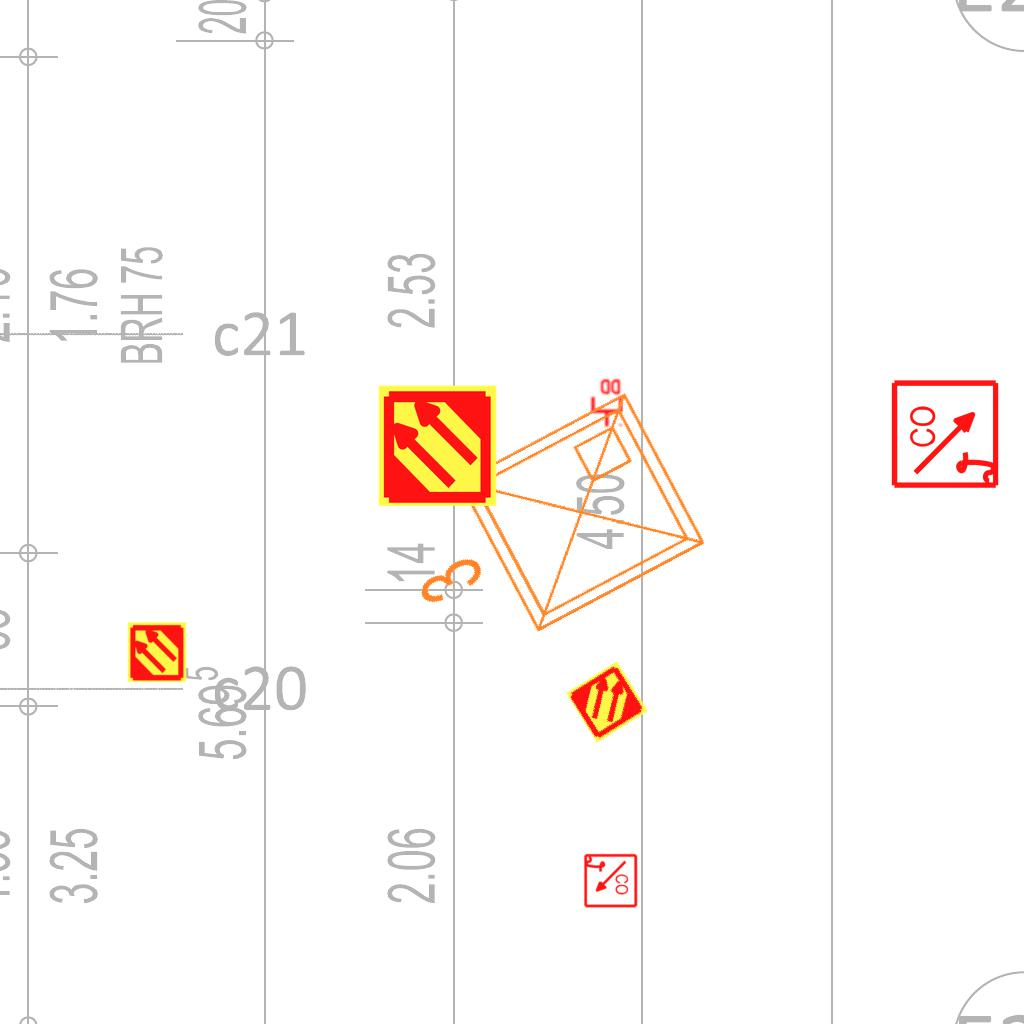ASR_Ansaugrauchmelder: (375, 383, 500, 508), (564, 659, 650, 745), (126, 621, 188, 683)
Datenanschluss_zweifach: (589, 377, 623, 428)
Einbaudownlights_LED_Konferenzraeume: (365, 372, 729, 698)
ROA_Rauchmelder_optisch_mit_Signalgeber_(Sockelsirene): (890, 377, 1003, 490), (582, 853, 638, 909)
